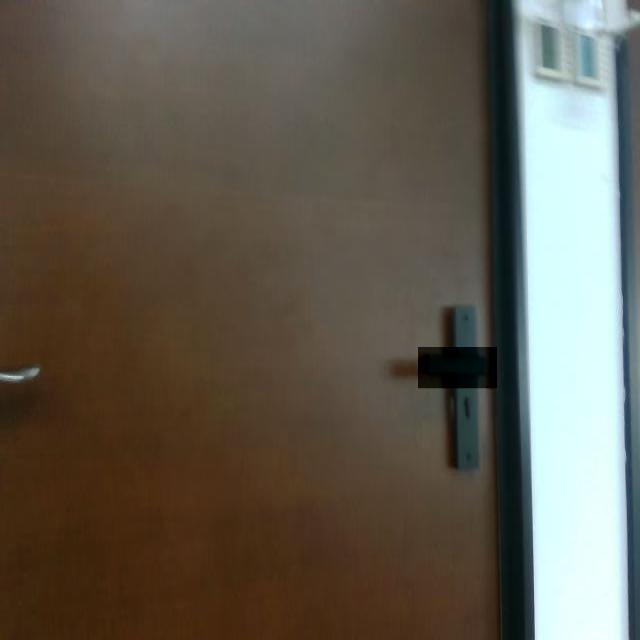doorhandle: (418, 348, 497, 390)
